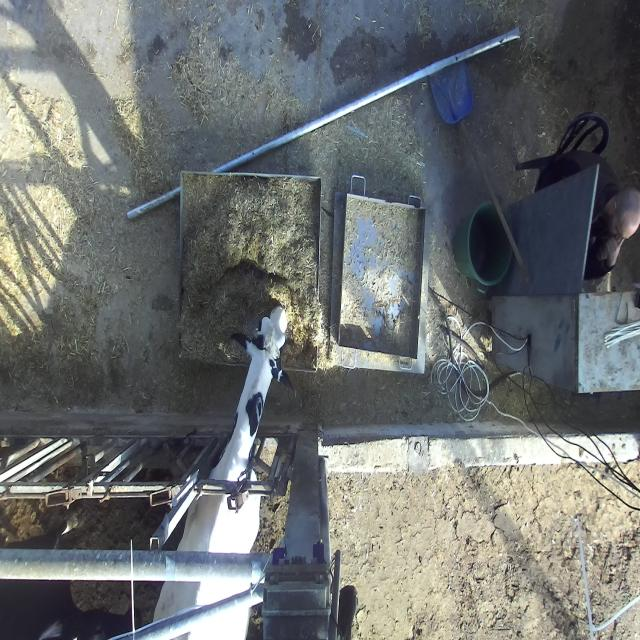cow: (231, 310, 299, 398)
